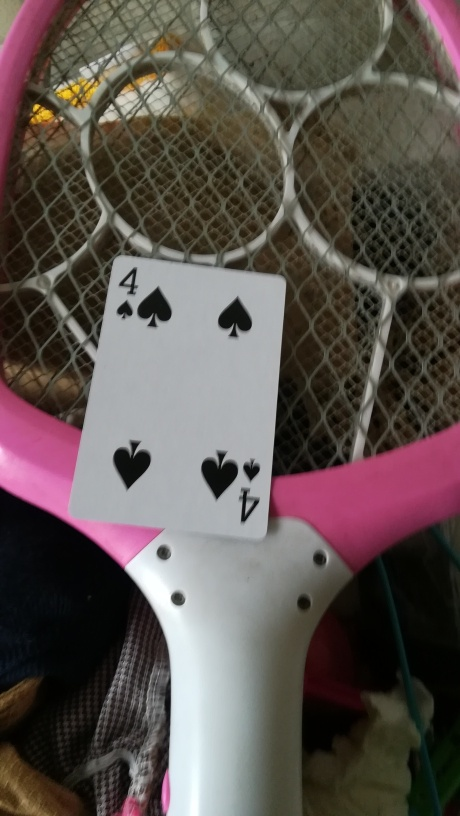ht 4: (66, 252, 286, 542)
